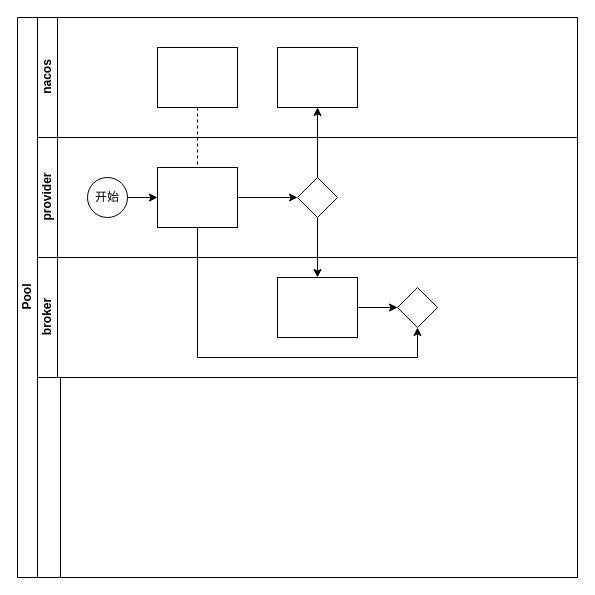
This 595x595 diagram has some shape labels left out. Each missing label, with the centre of its shape:
"consumer" goes at pixel 307 477.
"获取服务列表" goes at pixel 197 197.
